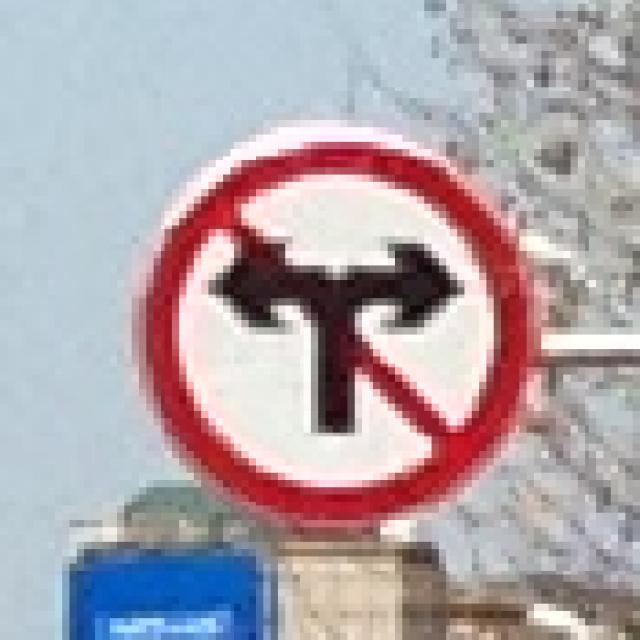Not that Direction: (130, 122, 534, 517)
